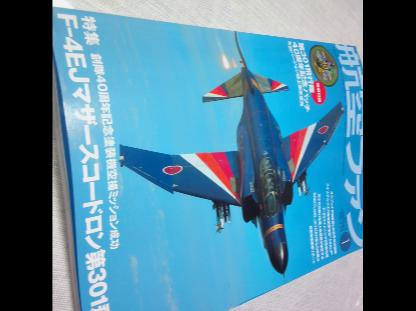F35: (119, 30, 344, 282)
